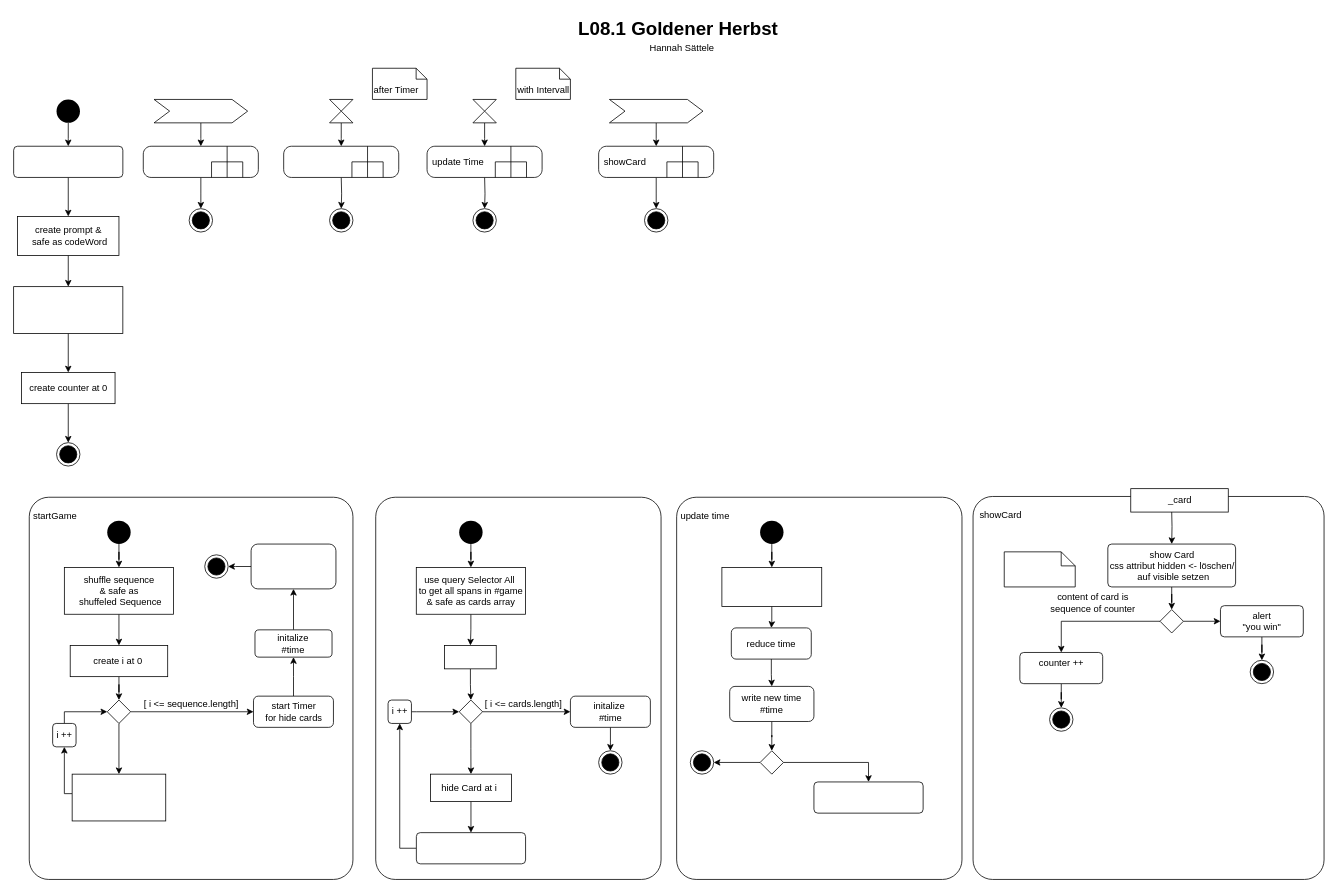
Some shapes in this 1338 by 893 pixel diagram are drawn without their labels. The box of each missing label's shape, as (x1, y1, x2, y2) in pixels:
Action1: (813, 781, 923, 813)
click/touch: (609, 99, 703, 123)
create span in #game with shuffeldSequence at i: (71, 773, 166, 821)
get value of #time as time: (721, 567, 822, 606)
hideCards: (375, 496, 661, 879)
i = o: (444, 645, 496, 669)
install click/touch listener on card i: (416, 832, 526, 864)
install load listener on windwo: (13, 145, 123, 177)
load: (153, 99, 248, 123)
richtig: (1003, 551, 1075, 587)
split codeWord & safe all letters as sequenze (array): (13, 286, 123, 333)
start Intervall for #time update time: (250, 543, 336, 589)
